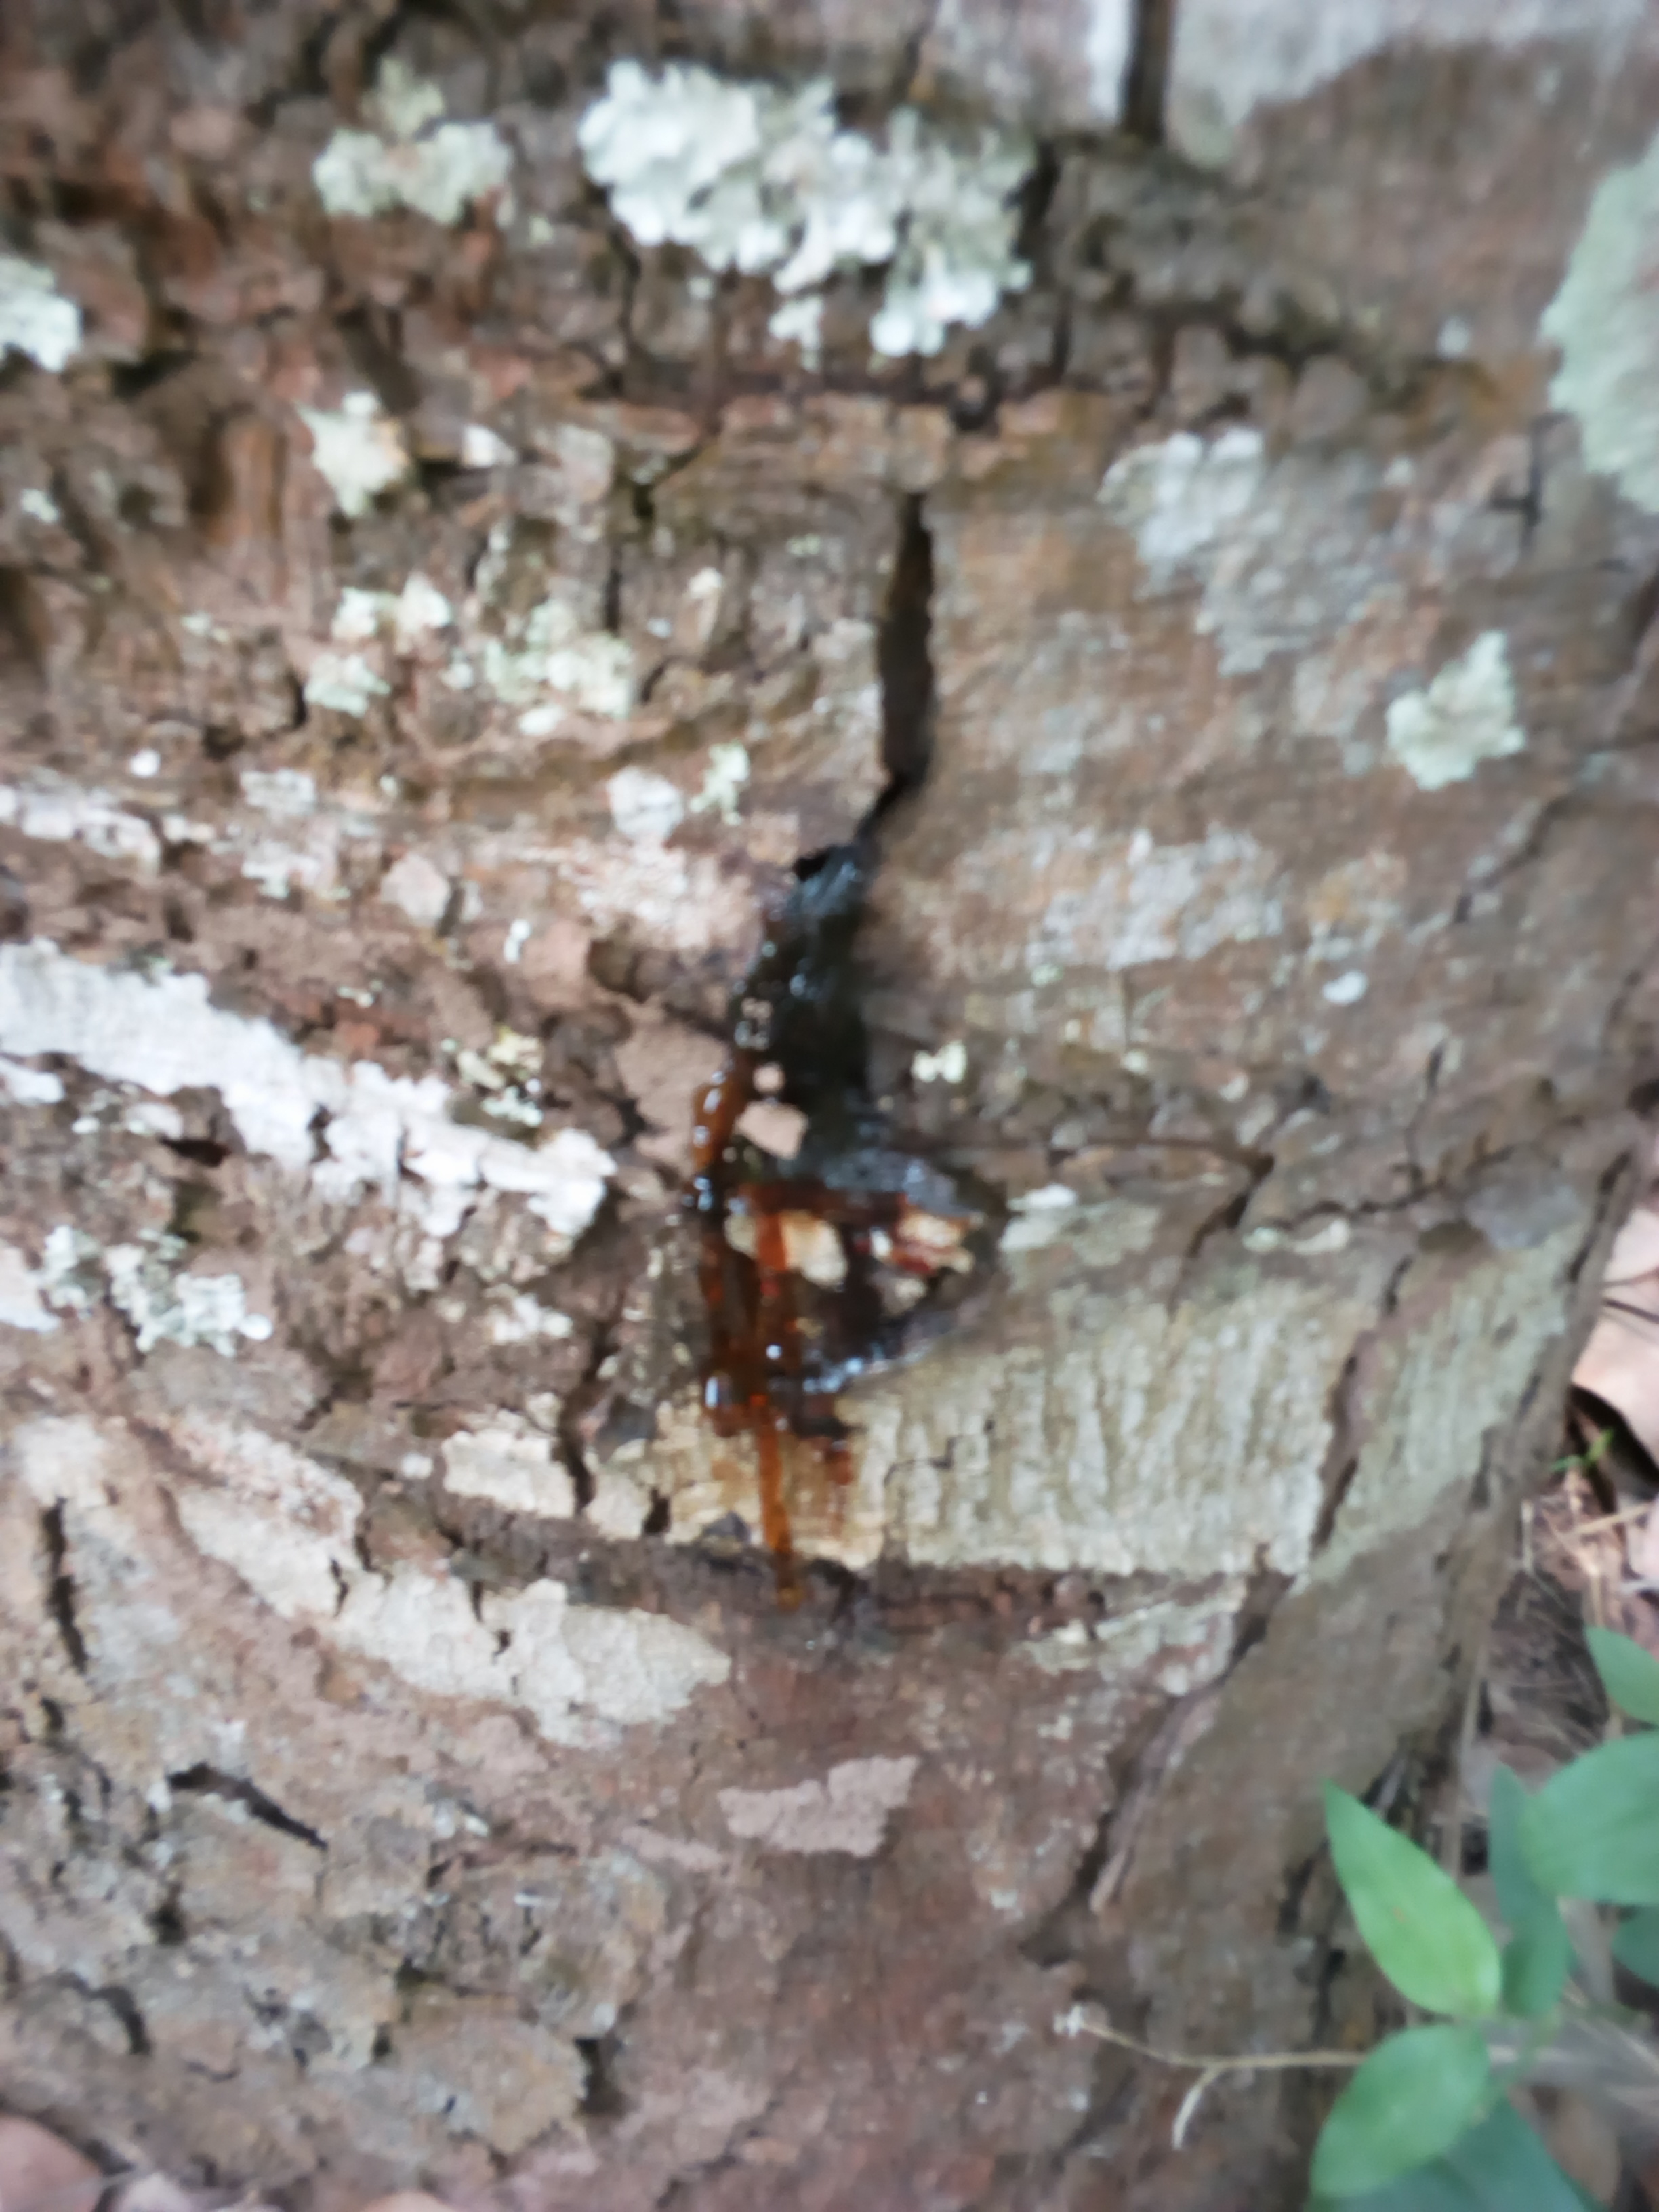Gommose: (674, 655, 976, 1618)
